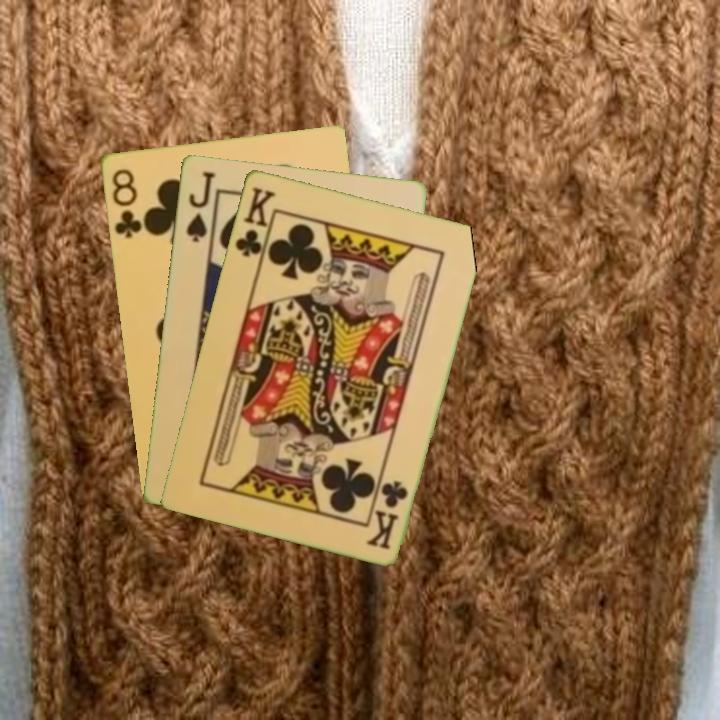8c: (108, 165, 145, 241)
Js: (182, 167, 218, 245)
Kc: (231, 182, 278, 266), (365, 476, 411, 552)
